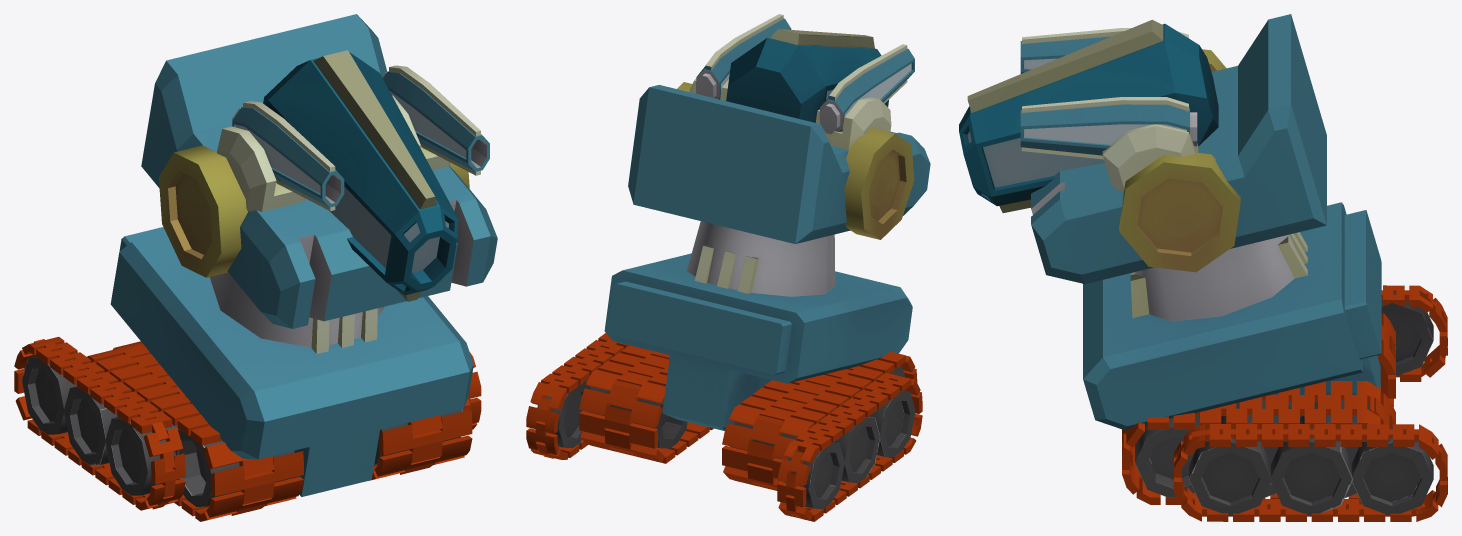
The model's file is player_move_2_upgrade6.obj.
The picture shows the model from 3 angles, left to right: view 1: azimuth 30°, elevation 25°; view 2: azimuth 150°, elevation 25°; view 3: azimuth 270°, elevation 25°; orthographic projection. The views are drawn at different scales.
Visible parts, largest first — view 1: Object004, Object012, Box038, Box043, Object013, Box042, Object011, Box044; view 2: Object004, Box038, Box042, Box043, Object012, Object013, Box044, Object011, Object014; view 3: Object004, Object014, Box044, Object012, Box042, Object011, Object013, Box043, Box038.
Part boxes in pixels (<box>): Object004: <box>110,14,497,496</box>; Object012: <box>232,65,489,211</box>; Box038: <box>87,341,303,521</box>; Box043: <box>14,337,185,510</box>; Object013: <box>22,355,175,495</box>; Box042: <box>370,398,472,480</box>; Object011: <box>168,410,462,506</box>; Box044: <box>462,352,481,429</box>; Object004: <box>604,29,930,430</box>; Box038: <box>722,351,917,490</box>; Box042: <box>579,345,713,463</box>; Box043: <box>777,373,922,521</box>; Object012: <box>696,14,914,134</box>; Object013: <box>783,390,915,508</box>; Box044: <box>526,333,628,459</box>; Object011: <box>587,366,905,459</box>; Object014: <box>537,356,612,447</box>; Object004: <box>959,14,1381,430</box>; Object014: <box>1189,428,1433,516</box>; Box044: <box>1173,424,1447,521</box>; Object012: <box>1020,28,1197,159</box>; Box042: <box>1122,381,1395,504</box>; Object011: <box>1135,362,1379,497</box>; Object013: <box>1380,293,1433,376</box>; Box043: <box>1381,285,1447,381</box>; Box038: <box>1377,313,1395,407</box>.
Bounding box in the file's own units: 139 × 178 × 187.
Materials: 4 (2 with a texture image).
